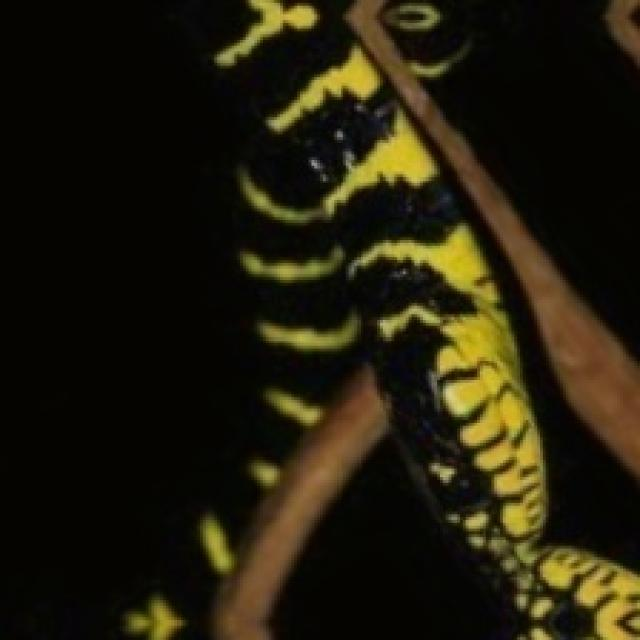mangrove cat snake: (122, 3, 640, 639), (381, 1, 471, 81)
